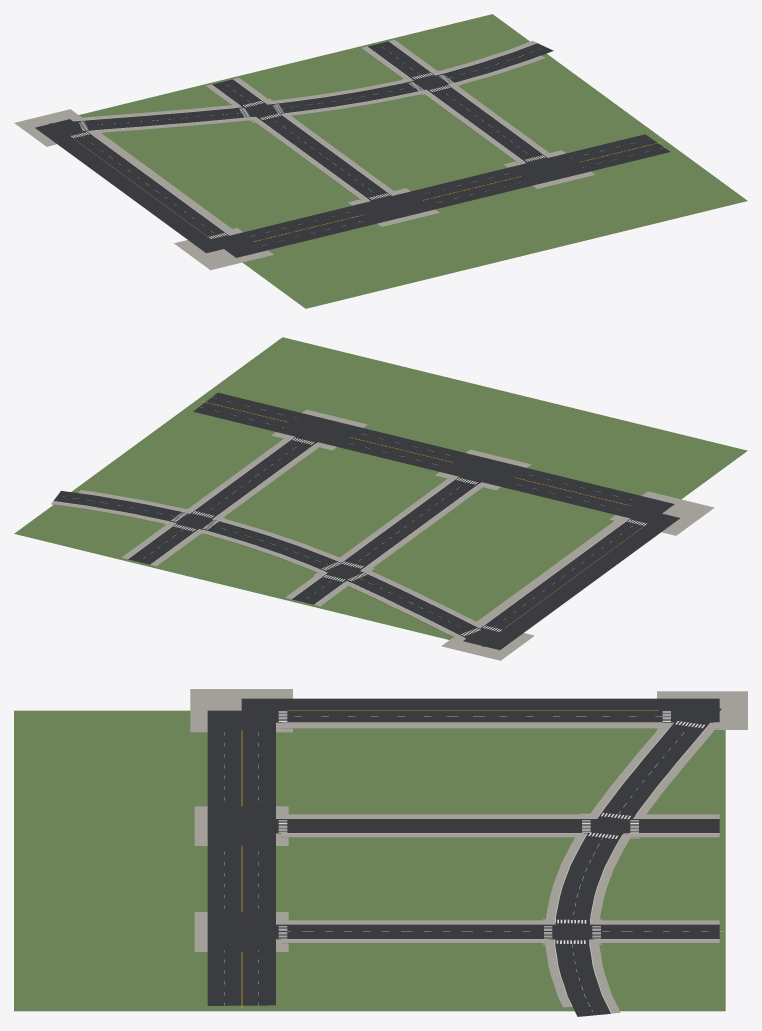
Rendered from Ground_4_0.fbx.
3 views of the same model, one above another, from view 1: azimuth 30°, elevation 25°; view 2: azimuth 150°, elevation 25°; view 3: azimuth 270°, elevation 25° (orthographic). The views are drawn at different scales.
Visible parts, largest first — view 1: Ground_4_0; view 2: Ground_4_0; view 3: Ground_4_0.
Part boxes in pixels (bbox=[...]): Ground_4_0: bbox=[14, 14, 747, 308]; Ground_4_0: bbox=[14, 337, 747, 660]; Ground_4_0: bbox=[14, 689, 747, 1016].
Size of the model in its own units: 273 by 0.14 by 258.
